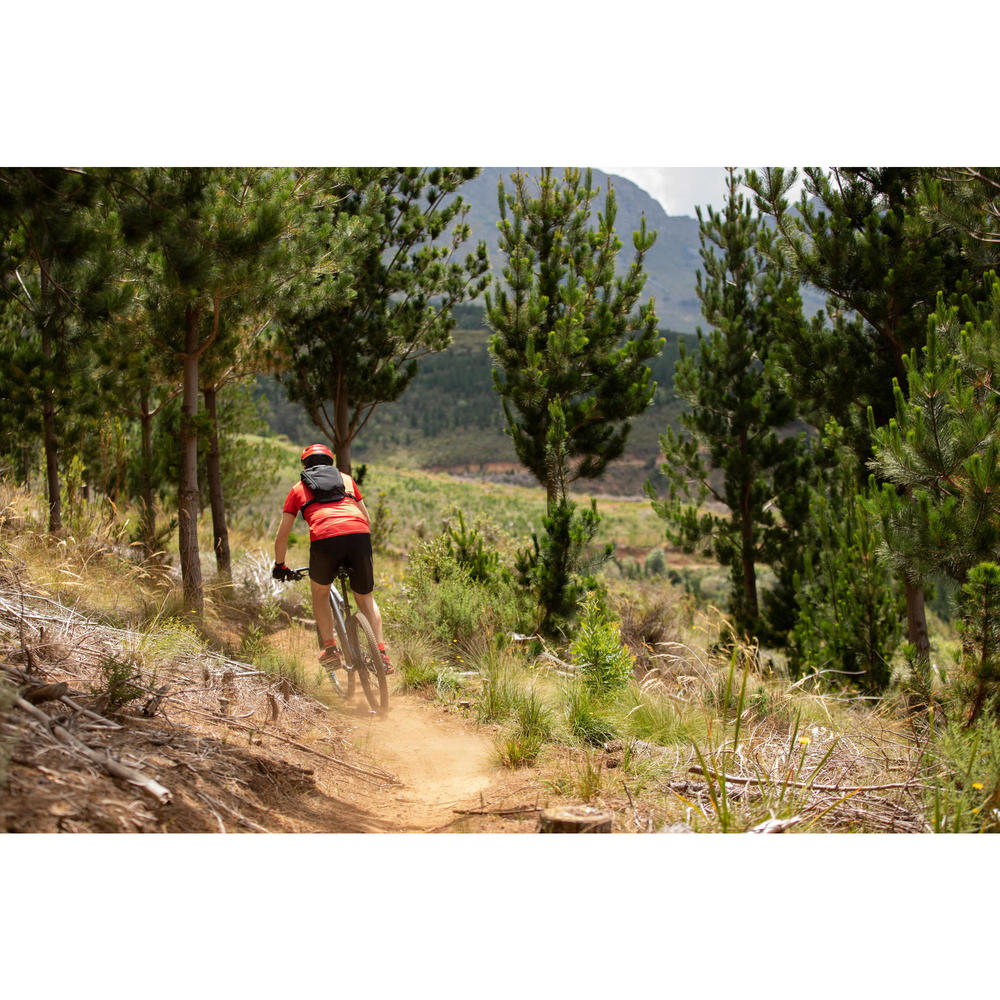MountainBike: (264, 551, 402, 730)
